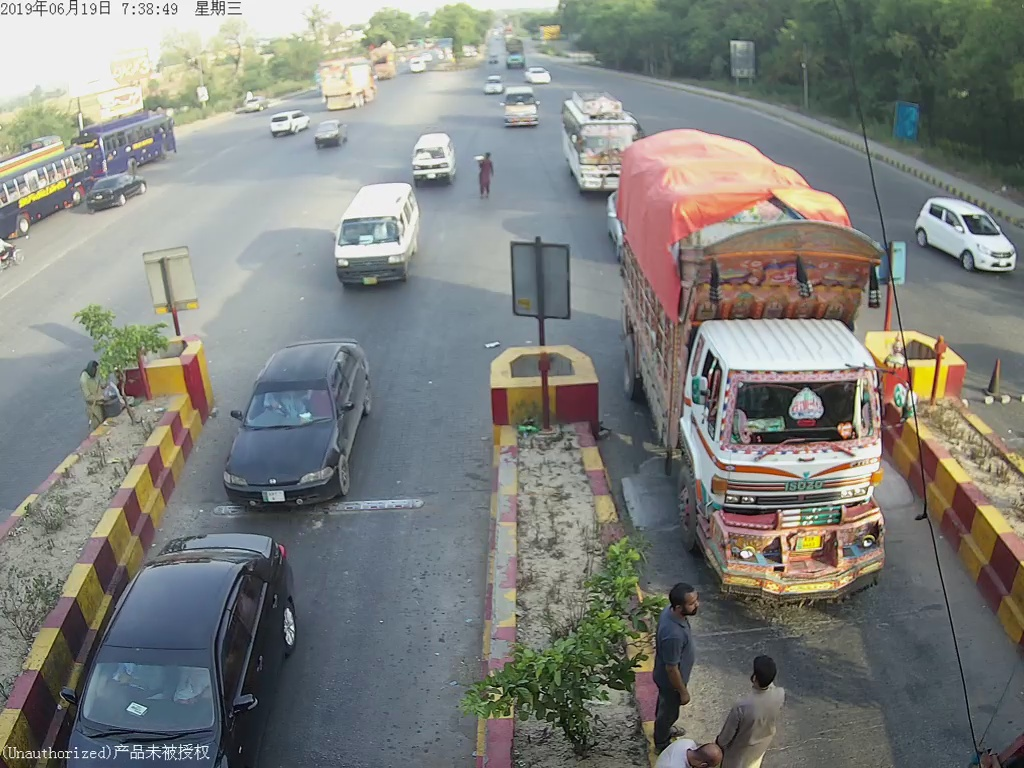Cat-1: (224, 341, 376, 513), (917, 195, 1014, 281), (409, 129, 460, 188)
Cat-2: (326, 177, 424, 287), (498, 84, 541, 132)
Cat-3: (561, 89, 645, 201)
Cat-4: (624, 133, 904, 601)
